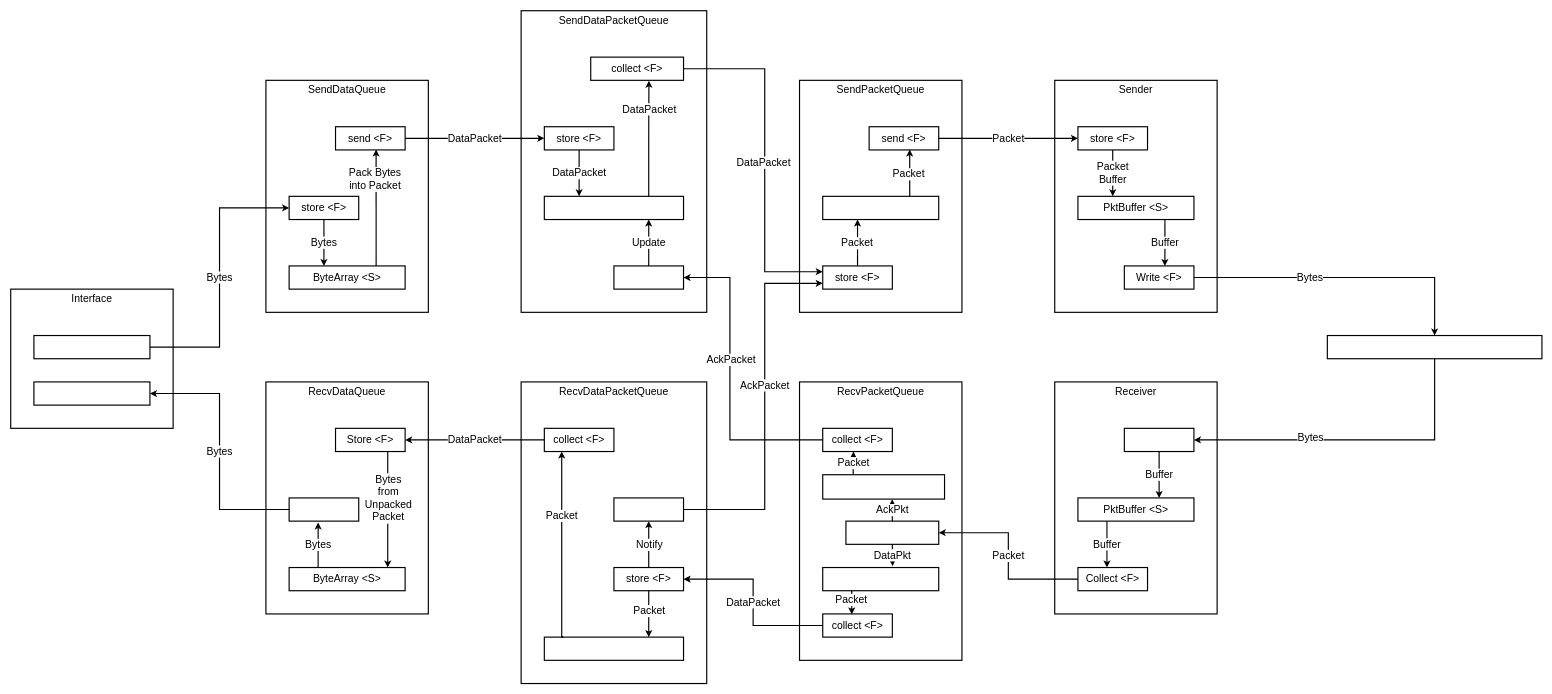
Some shapes in this 1552 by 694 pixel diagram are drawn without their labels. Here are the shapes that lost their labels. From the top down, the centre of each, then its label:
the point at 613,207: AugSndDataPktArray <S>
the point at 880,207: PktArray <S>
the point at 648,277: rcvAck <F>
the point at 91,347: Send
the point at 1434,347: Channel
the point at 91,393: Receive
the point at 1158,439: read <F>
the point at 883,486: AckPktArray <S>
the point at 323,509: recv <F>
the point at 648,509: sendAck <F>
the point at 892,532: sort & store <F>
the point at 880,579: DataPktArray <S>
the point at 613,648: AugRcvDataPktArray <S>
